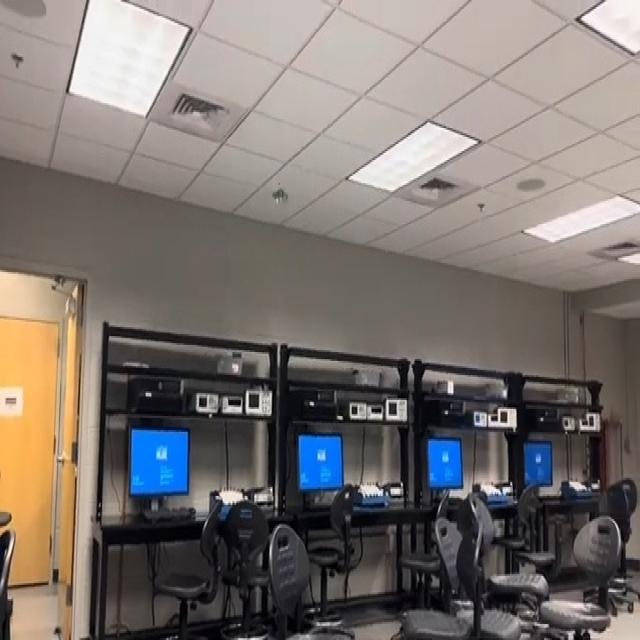drone: (262, 170, 295, 215)
